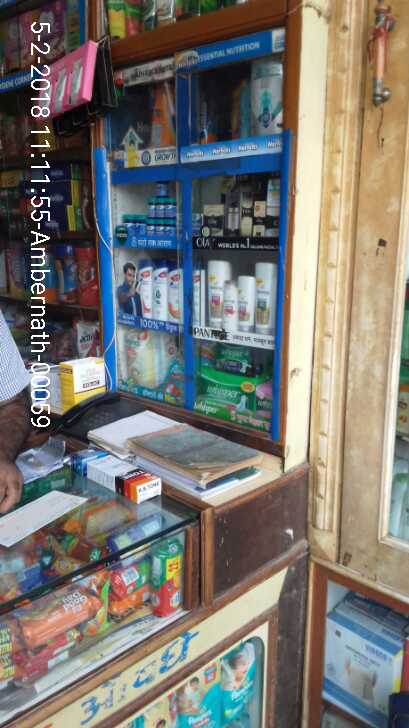beauty: (256, 259, 278, 330), (202, 260, 224, 325), (217, 278, 237, 331), (136, 257, 151, 321), (199, 204, 224, 240), (236, 276, 252, 328), (155, 262, 166, 323), (168, 269, 180, 320), (239, 195, 252, 236), (252, 202, 263, 238)
pharmacy: (195, 364, 258, 411), (119, 328, 155, 392), (119, 209, 178, 232), (141, 194, 175, 219)
